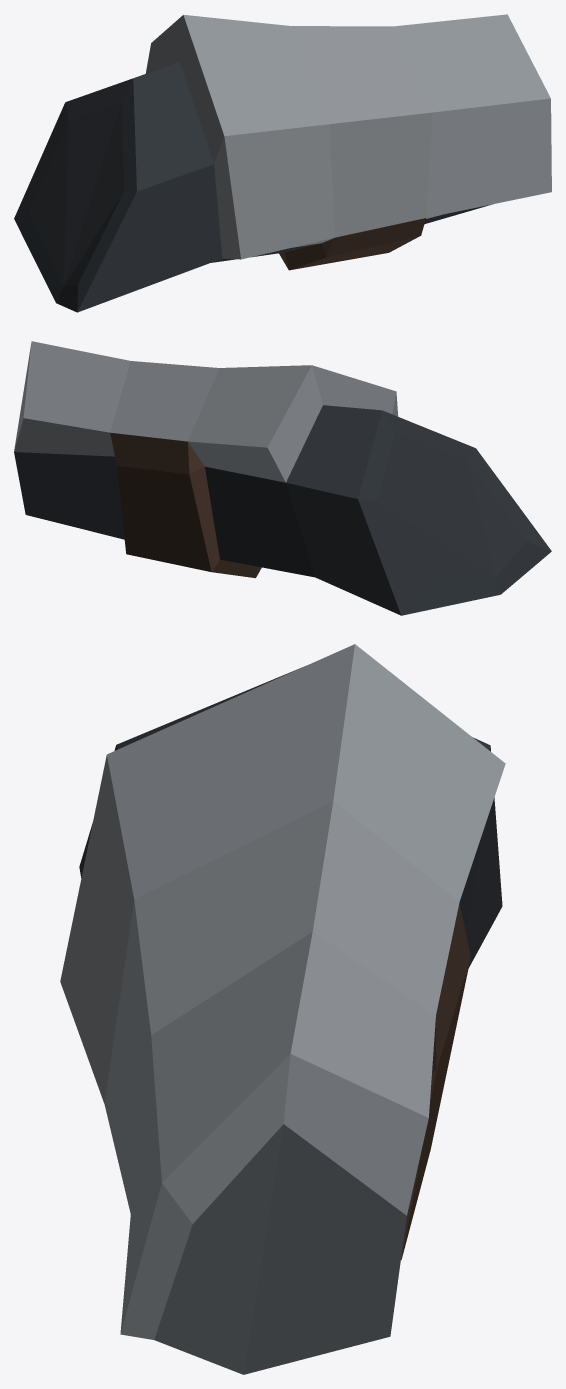
File: Chr_ArmUpperLeft_Female_08_Static.fbx
The picture shows the model from 3 angles, top to bottom: view 1: azimuth 30°, elevation 25°; view 2: azimuth 150°, elevation 25°; view 3: azimuth 270°, elevation 25°; orthographic projection. The views are drawn at different scales.
Parts seen in each view (by area): view 1: Chr_ArmUpperLeft_Female_08_Static; view 2: Chr_ArmUpperLeft_Female_08_Static; view 3: Chr_ArmUpperLeft_Female_08_Static.
Part boxes in pixels (left/top/right/bottom): Chr_ArmUpperLeft_Female_08_Static: left=14, top=14, right=551, bottom=312; Chr_ArmUpperLeft_Female_08_Static: left=14, top=341, right=551, bottom=615; Chr_ArmUpperLeft_Female_08_Static: left=60, top=644, right=505, bottom=1374.
Bounding box in the file's own units: 0.3543 × 0.1802 × 0.1432.
